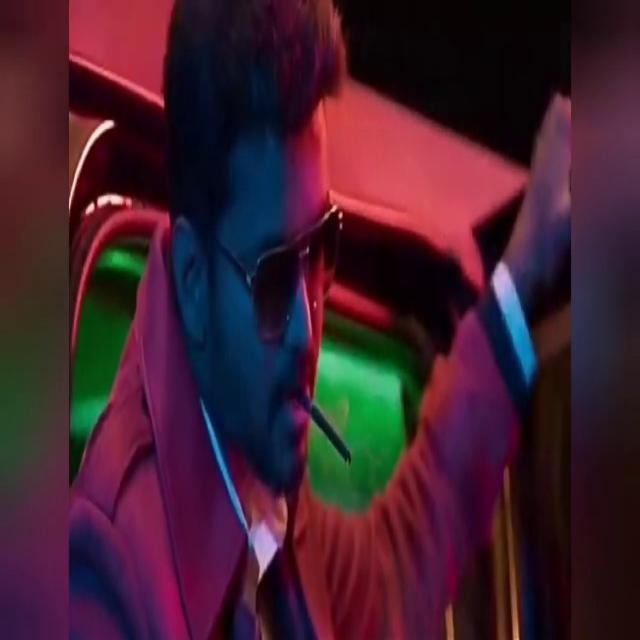smoking: (211, 104, 383, 491)
